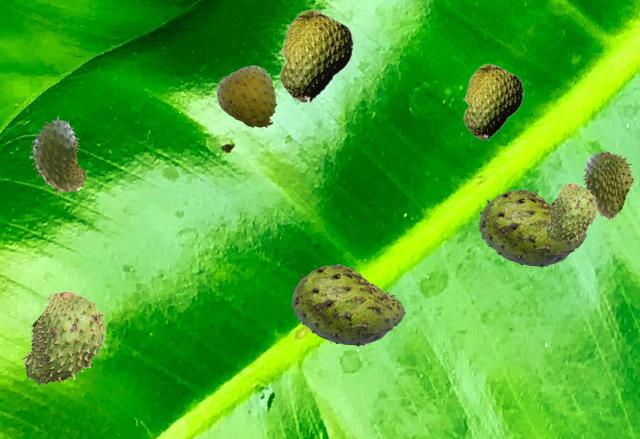guyabano: (291, 264, 404, 345), (478, 189, 585, 266), (21, 291, 105, 385), (278, 9, 353, 103), (462, 63, 523, 140), (29, 116, 86, 197), (215, 65, 276, 128), (581, 151, 636, 219), (544, 183, 596, 242)
